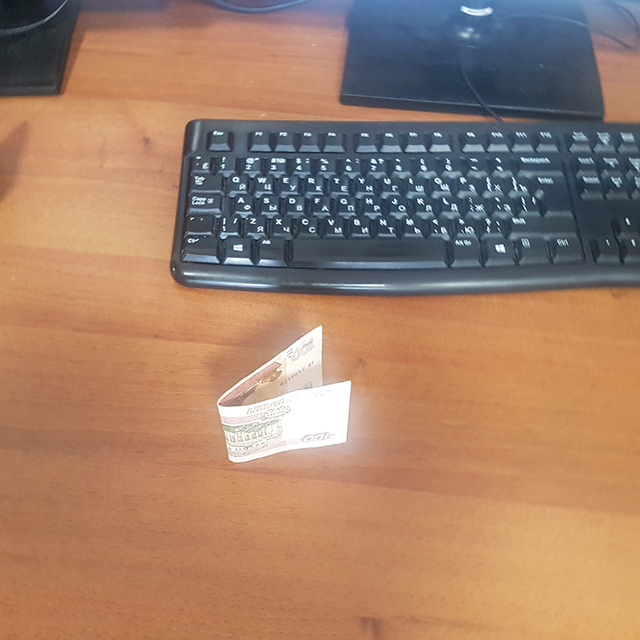banknotes: (217, 323, 352, 467)
